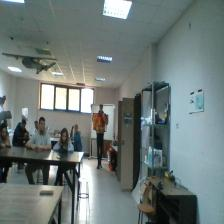fire-poster: (93, 114, 106, 131)
